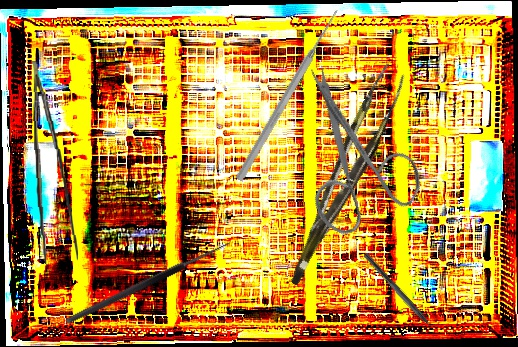Chopper: (357, 252, 442, 341)
Hook Surgical: (61, 229, 234, 327)
Iris Scissors: (248, 61, 449, 257)
Pusher: (233, 7, 343, 183)
Tissue Forceps: (264, 62, 420, 286), (31, 59, 79, 268)
